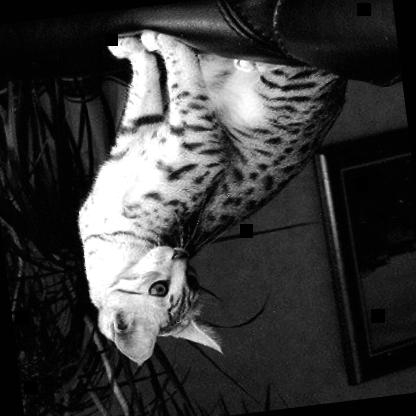cat: (58, 7, 380, 372)
